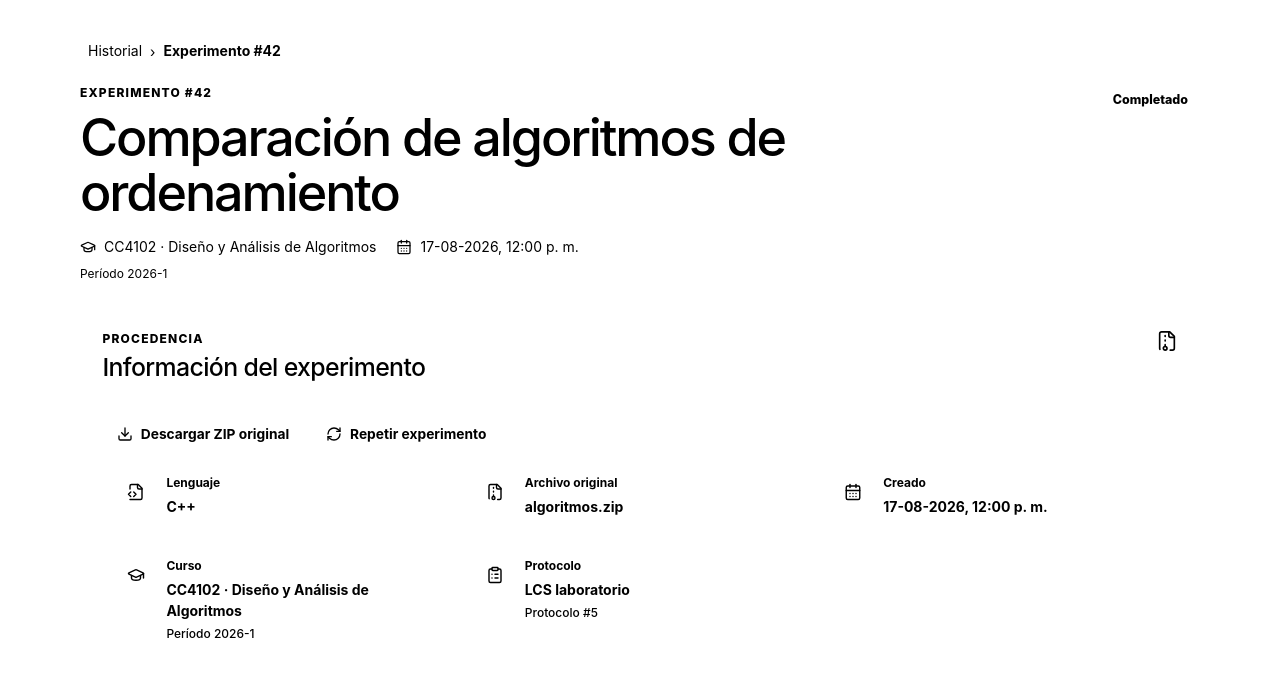
Test: SubmissionOverviewPage › owner can start the verified original ZIP download
The width and height of the screenshot is (1280, 684).
Expected: the heading "Comparación de algoritmos de ordenamiento" is shown, [80,110,900,220]
Click the button "Descargar ZIP original" at [203, 434], box [102,414,304,454]
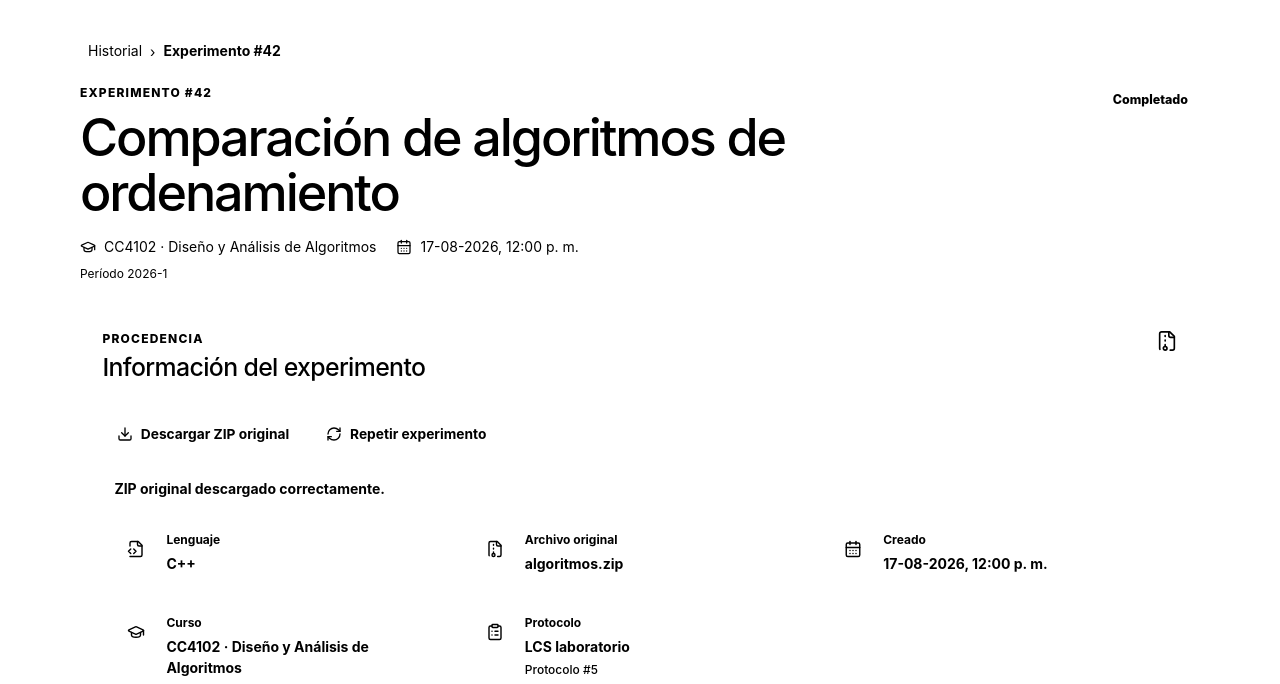
Result: the text "ZIP original descargado correctamente." is shown at [114,480,385,498]
